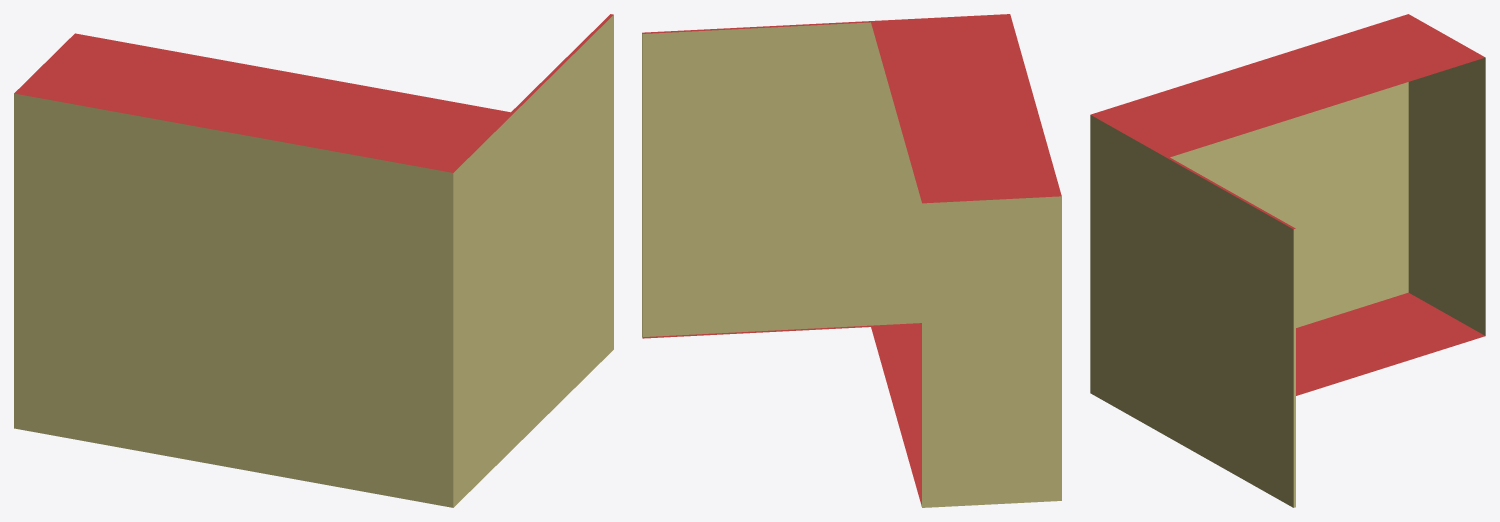
3 views of the same model, side by side, from view 1: azimuth 30°, elevation 25°; view 2: azimuth 150°, elevation 25°; view 3: azimuth 270°, elevation 25° (orthographic). The views are drawn at different scales.
Size of the model in its own units: 12.38 by 9.61 by 7.47.
